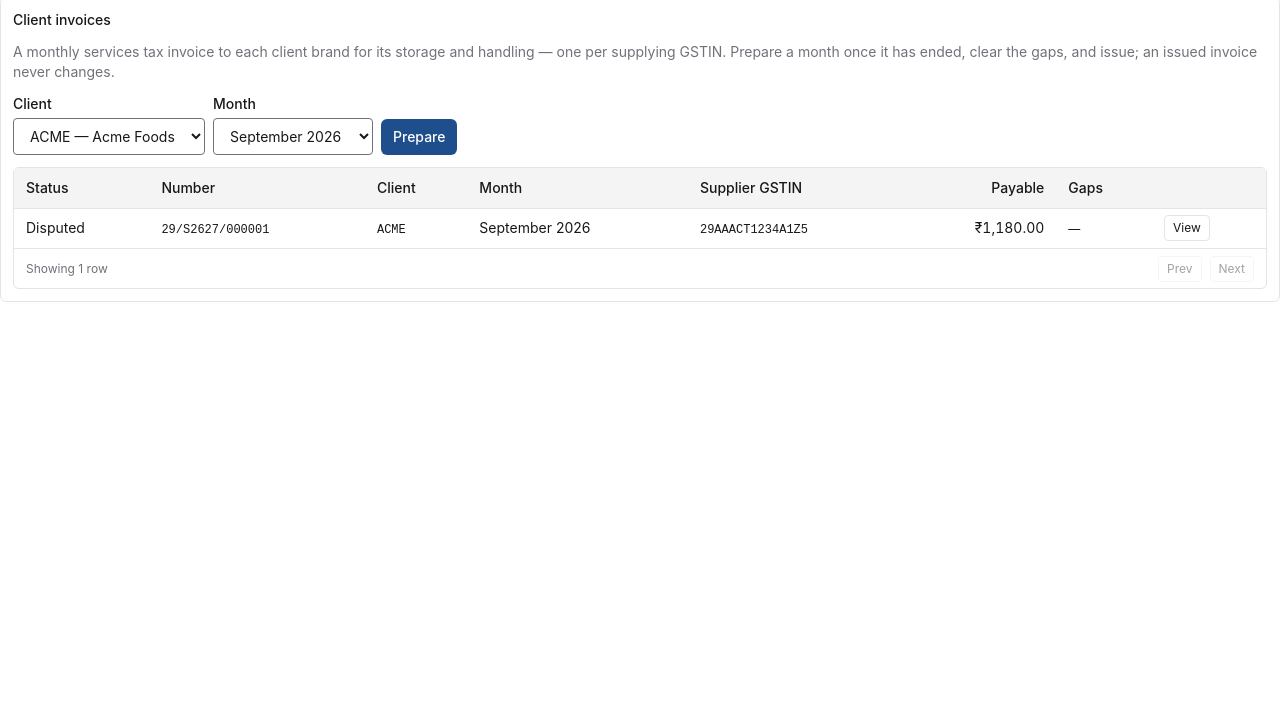
credit and debit notes › a disputed invoice: no debit; "Credit this line" opens the credit form preset to the line with settle ticked
Click the button "View" at (1187, 228), box x1=1164 y1=215 x2=1210 y2=241
(page scrolled)
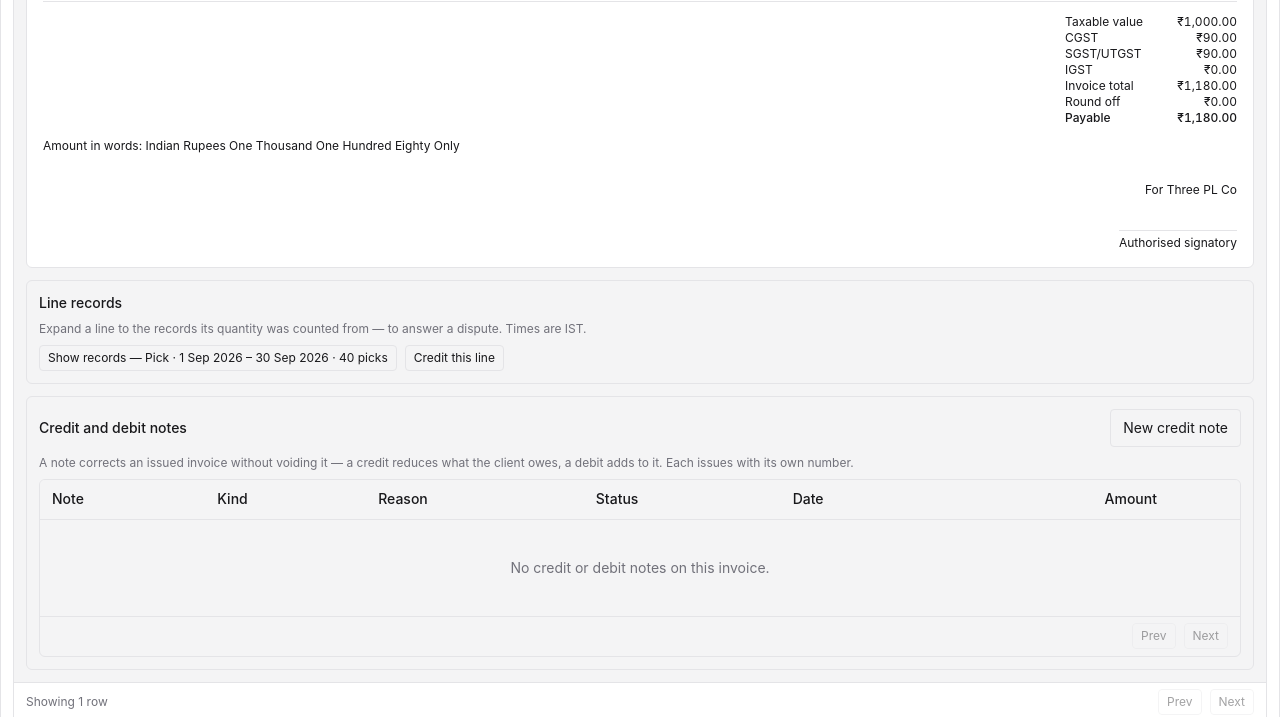
expect the button "Credit this line" is shown: met
Click the button "Credit this line" at (454, 358), box x1=405 y1=344 x2=504 y2=370
(page scrolled)
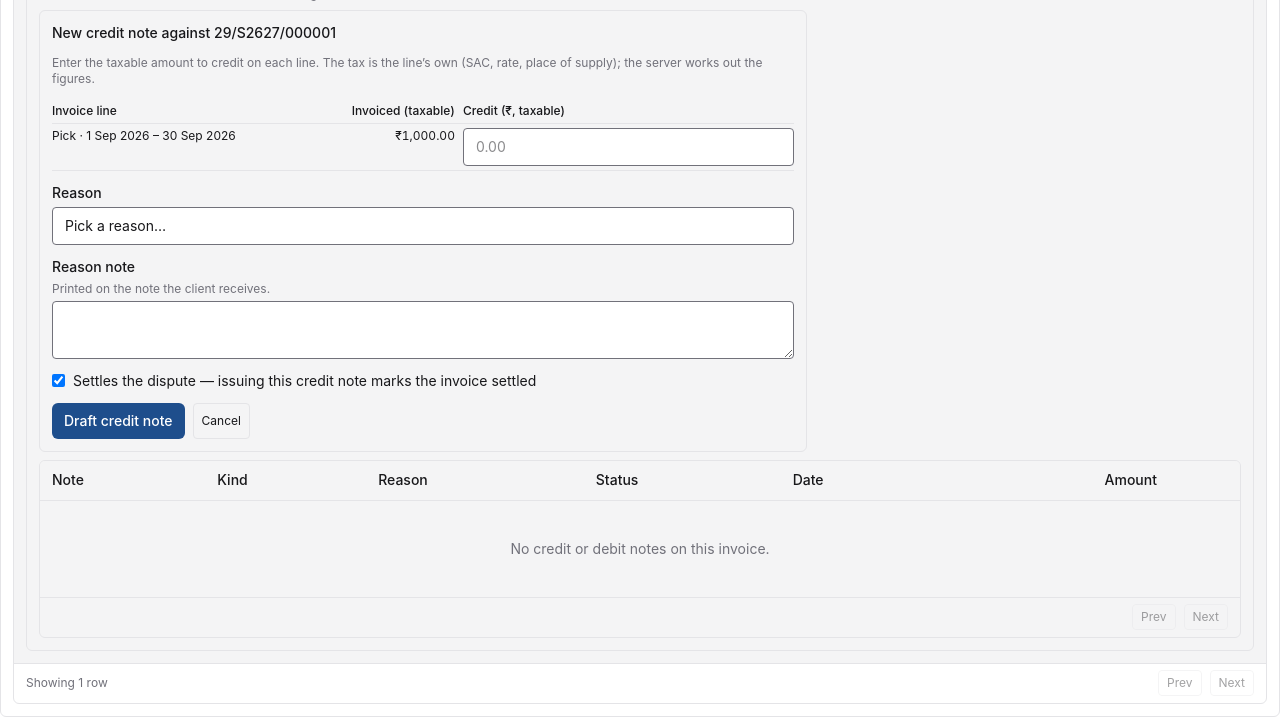
expect the checkbox named "Settles the dispute" is checked: met, box x1=52 y1=374 x2=65 y2=387
expect the number of fields is 1: met, box x1=463 y1=128 x2=794 y2=166
